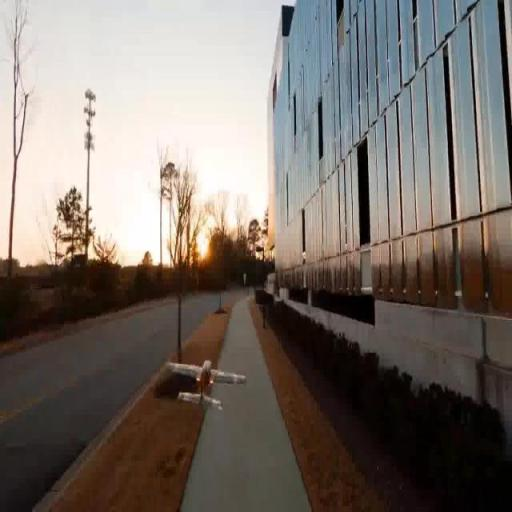uav: (166, 350, 250, 420)
